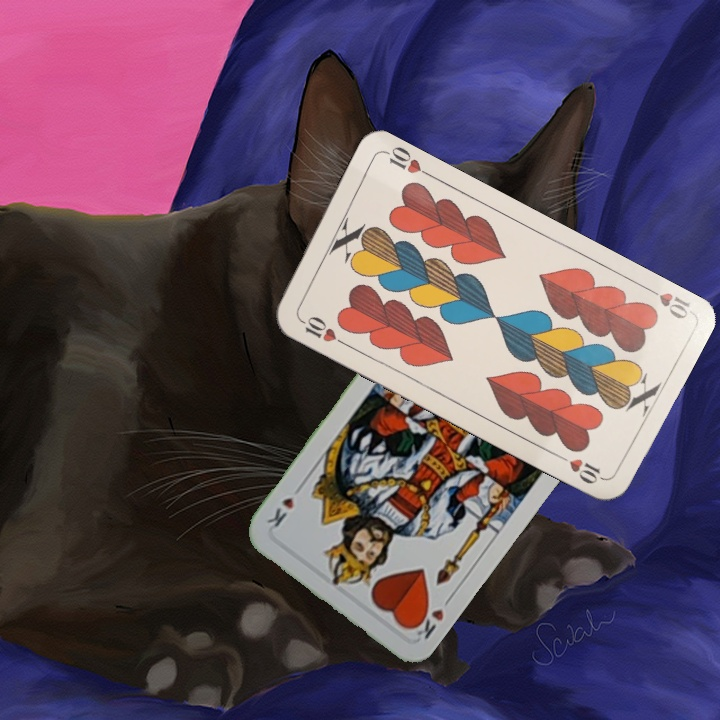H10: (639, 281, 693, 322), (294, 311, 348, 348)
HK: (407, 591, 456, 643)
